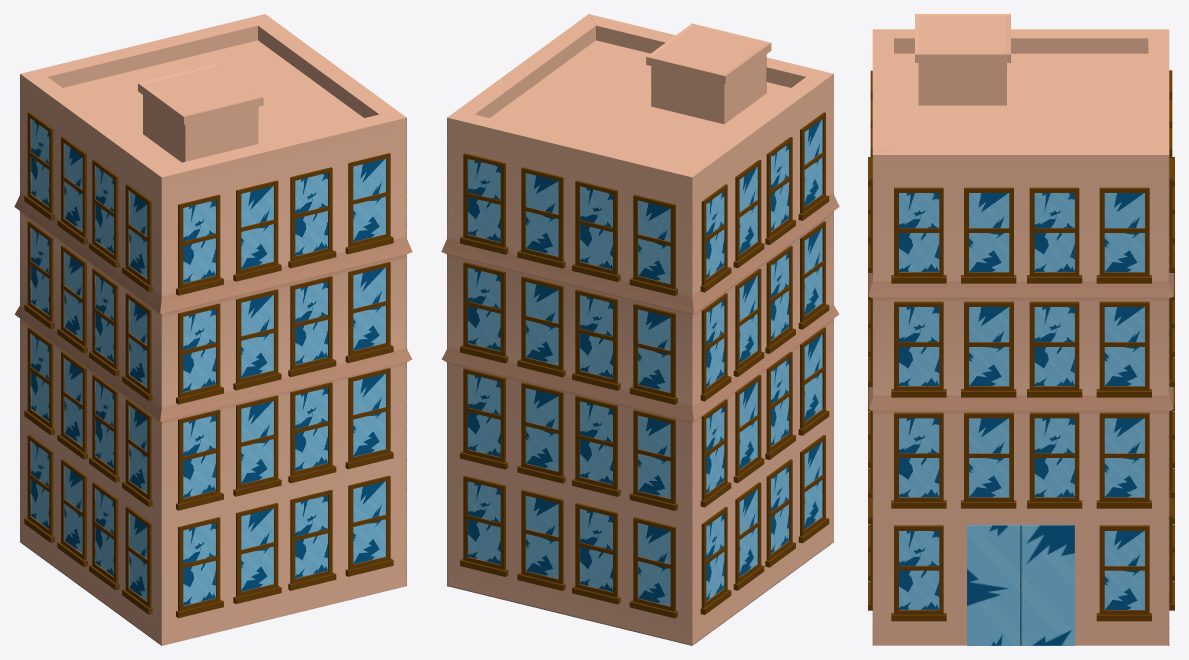
Rendered from edificiograndenaranja.fbx.
3 views of the same model, side by side, from view 1: azimuth 30°, elevation 25°; view 2: azimuth 150°, elevation 25°; view 3: azimuth 270°, elevation 25° (orthographic). The views are drawn at different scales.
Parts seen in each view (by area): view 1: pCube22; view 2: pCube22; view 3: pCube22.
Boxes of the visible parts, x1=… form: pCube22: x1=14, y1=14, x2=412, y2=645; pCube22: x1=441, y1=14, x2=839, y2=645; pCube22: x1=868, y1=14, x2=1174, y2=645.
Size of the model in its own units: 13.07 by 24.72 by 13.02.
1 material, 1 textured.
